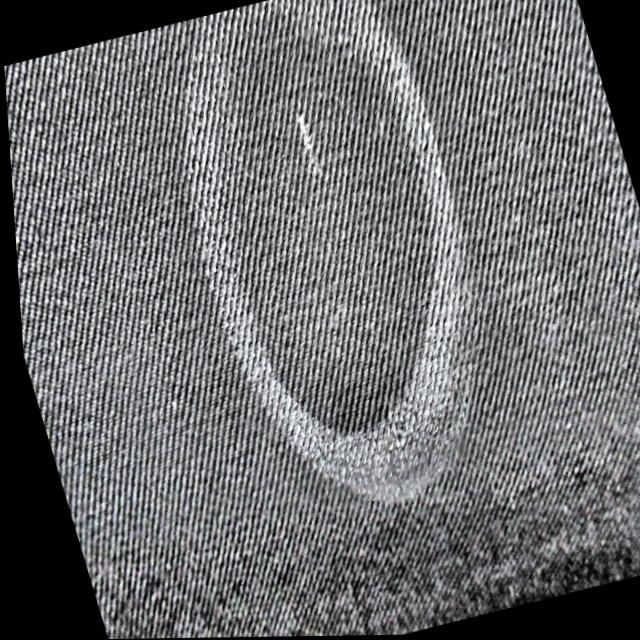Hole: (281, 86, 331, 197)
